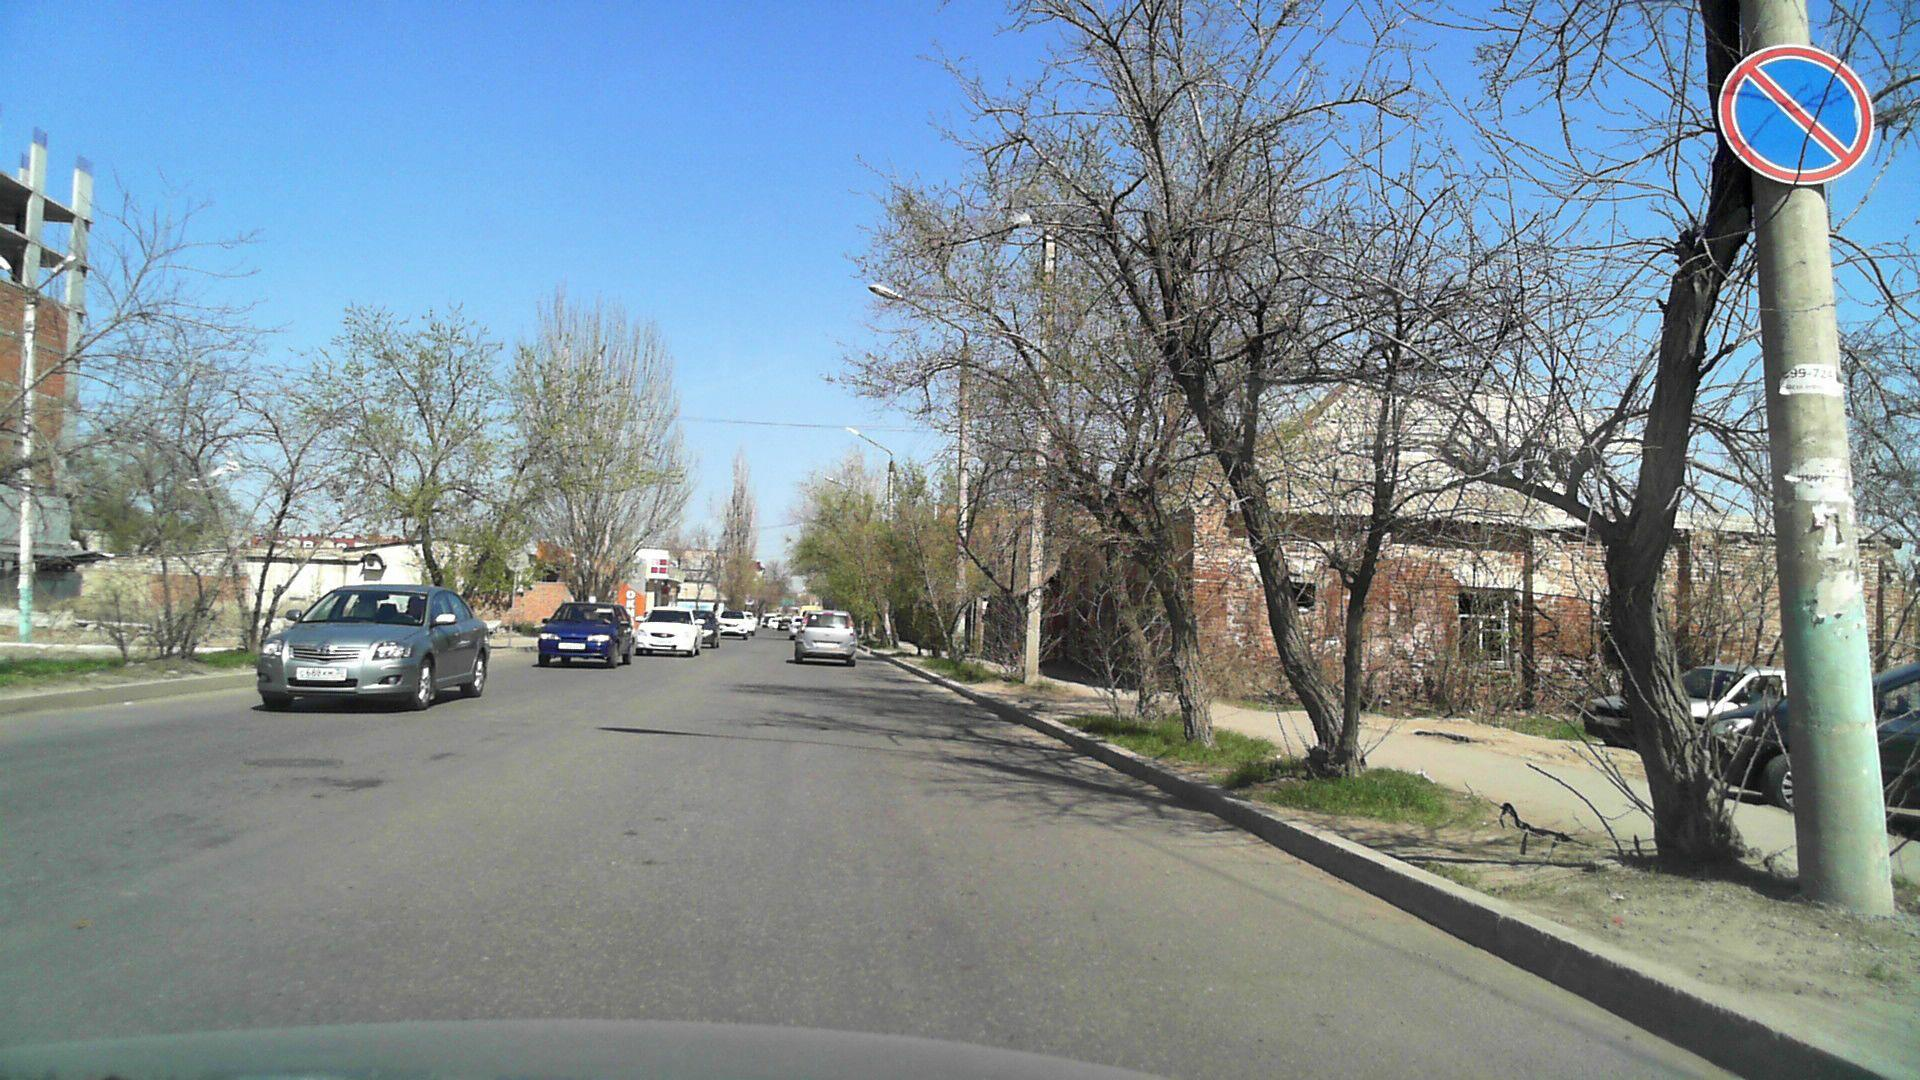3_28: (1717, 44, 1876, 187)
